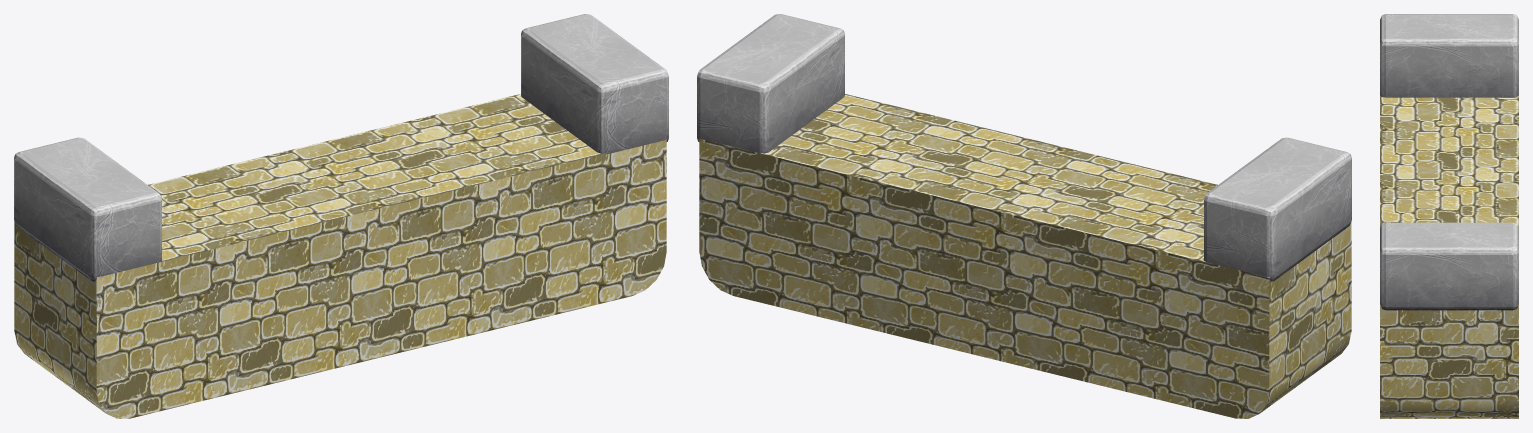
Rendered from Puente_P_Paso.fbx.
3 views of the same model, side by side, from view 1: azimuth 30°, elevation 25°; view 2: azimuth 150°, elevation 25°; view 3: azimuth 270°, elevation 25° (orthographic). The views are drawn at different scales.
Visible parts, largest first — view 1: Puente_P_Paso_LOD0; view 2: Puente_P_Paso_LOD0; view 3: Puente_P_Paso_LOD0.
Part boxes in pixels (x1,y1,x2,y2): Puente_P_Paso_LOD0: (14, 14, 668, 418); Puente_P_Paso_LOD0: (697, 14, 1351, 418); Puente_P_Paso_LOD0: (1380, 14, 1518, 418).
Size of what is drawn, in the model's own units: 406 by 145 by 100.
